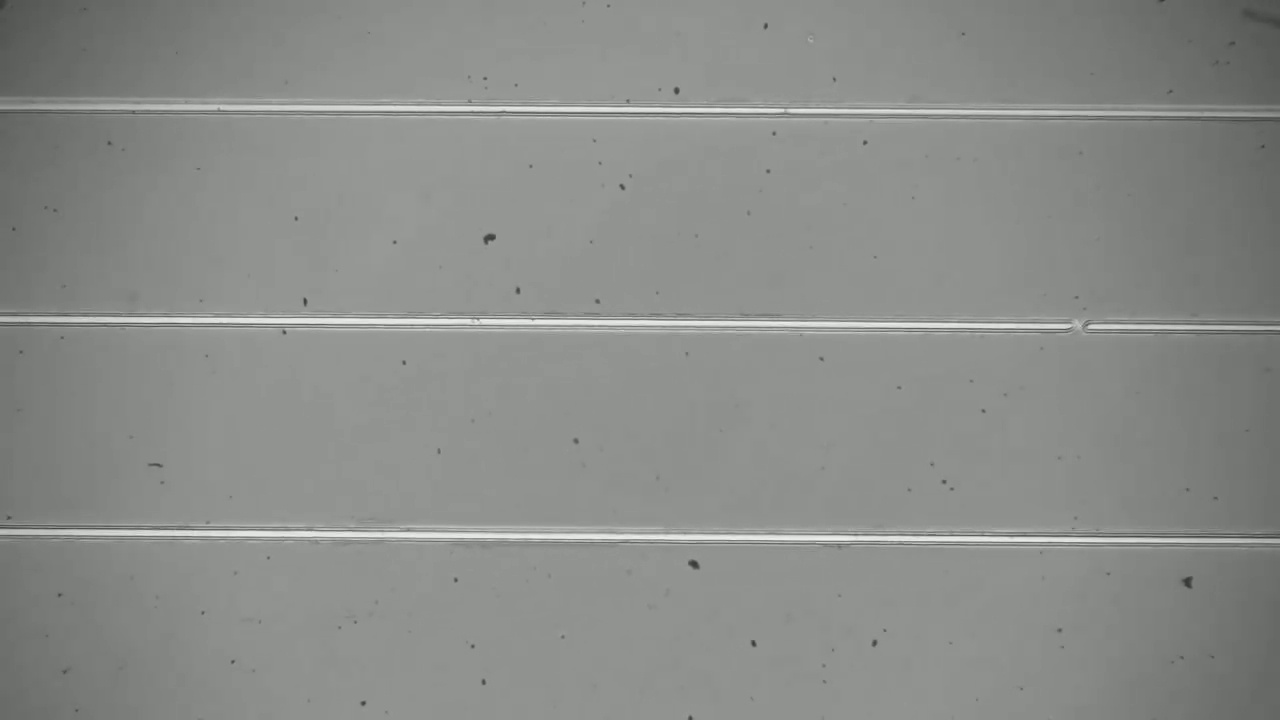open: (1062, 311, 1099, 344)
